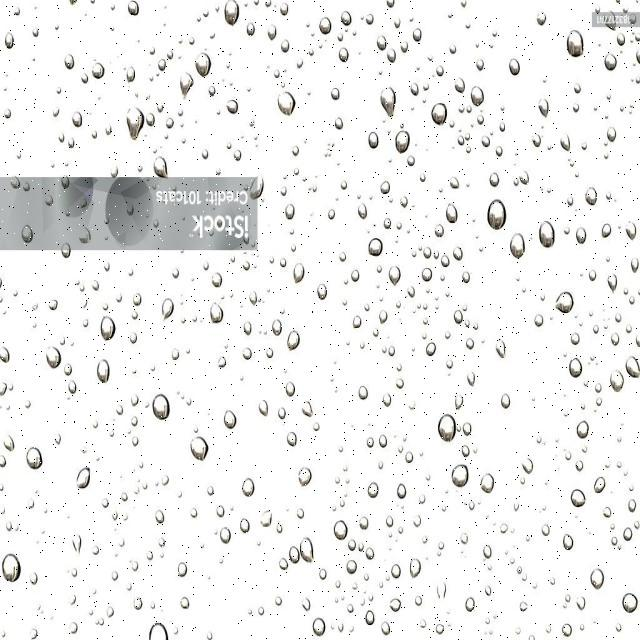raindrop: (120, 100, 146, 148), (428, 412, 459, 449), (480, 198, 510, 235), (550, 284, 579, 322), (444, 459, 473, 496), (562, 23, 588, 64), (273, 85, 298, 124), (535, 214, 558, 256), (391, 126, 414, 166), (377, 78, 397, 124), (192, 44, 215, 84), (186, 431, 212, 466), (0, 550, 22, 590), (41, 341, 64, 379), (72, 461, 96, 497), (202, 301, 230, 331), (150, 152, 174, 187), (95, 354, 116, 394), (235, 474, 263, 503), (298, 534, 320, 570), (96, 312, 120, 344), (283, 323, 302, 363), (248, 166, 267, 206), (177, 70, 197, 107), (144, 614, 172, 640), (586, 564, 608, 597), (220, 402, 242, 435), (507, 230, 527, 266), (314, 274, 338, 304), (607, 365, 628, 399), (0, 425, 21, 459), (474, 470, 496, 502), (364, 232, 386, 264), (428, 99, 449, 132), (566, 484, 588, 514), (599, 48, 621, 78), (563, 353, 584, 384), (89, 59, 110, 90), (518, 450, 538, 482), (619, 590, 640, 620), (535, 92, 554, 125), (298, 461, 317, 494), (330, 519, 352, 547), (444, 200, 464, 230), (221, 0, 241, 30), (558, 128, 576, 160), (469, 80, 487, 112), (152, 392, 170, 424), (157, 292, 175, 324), (25, 444, 43, 476), (0, 24, 18, 56), (373, 28, 395, 54), (296, 394, 316, 422), (60, 48, 80, 76), (406, 554, 424, 584), (311, 613, 331, 640), (364, 474, 382, 504), (280, 197, 300, 224), (318, 11, 338, 38), (622, 218, 640, 246), (504, 57, 522, 85), (354, 200, 372, 228), (492, 336, 508, 367), (387, 263, 404, 292), (573, 416, 591, 443), (123, 0, 145, 22), (268, 310, 284, 340), (209, 264, 225, 294), (592, 471, 609, 499), (422, 336, 439, 364), (290, 258, 304, 292), (582, 186, 600, 212), (573, 226, 590, 253), (383, 592, 402, 616), (343, 554, 362, 578), (376, 615, 394, 640), (285, 424, 300, 454), (388, 557, 404, 585), (256, 395, 272, 423), (410, 21, 426, 49), (258, 506, 275, 532), (484, 168, 504, 190), (451, 388, 466, 417), (497, 386, 512, 415), (606, 269, 621, 298), (70, 104, 85, 133), (360, 606, 378, 630), (625, 355, 640, 383), (238, 512, 253, 540), (560, 529, 576, 555), (450, 306, 466, 332), (603, 124, 619, 150), (337, 6, 353, 32), (336, 42, 352, 68), (262, 18, 278, 44), (450, 75, 468, 98), (461, 593, 478, 617), (463, 368, 479, 393), (356, 382, 372, 407), (452, 242, 466, 270), (379, 388, 393, 416), (376, 430, 392, 454), (176, 590, 192, 614), (217, 523, 232, 548), (558, 619, 575, 640), (599, 218, 613, 242), (226, 94, 240, 118), (280, 376, 294, 399), (240, 343, 254, 366), (529, 128, 542, 152), (177, 558, 190, 582), (464, 334, 481, 352), (621, 524, 634, 547), (362, 543, 376, 564), (394, 374, 406, 393)
